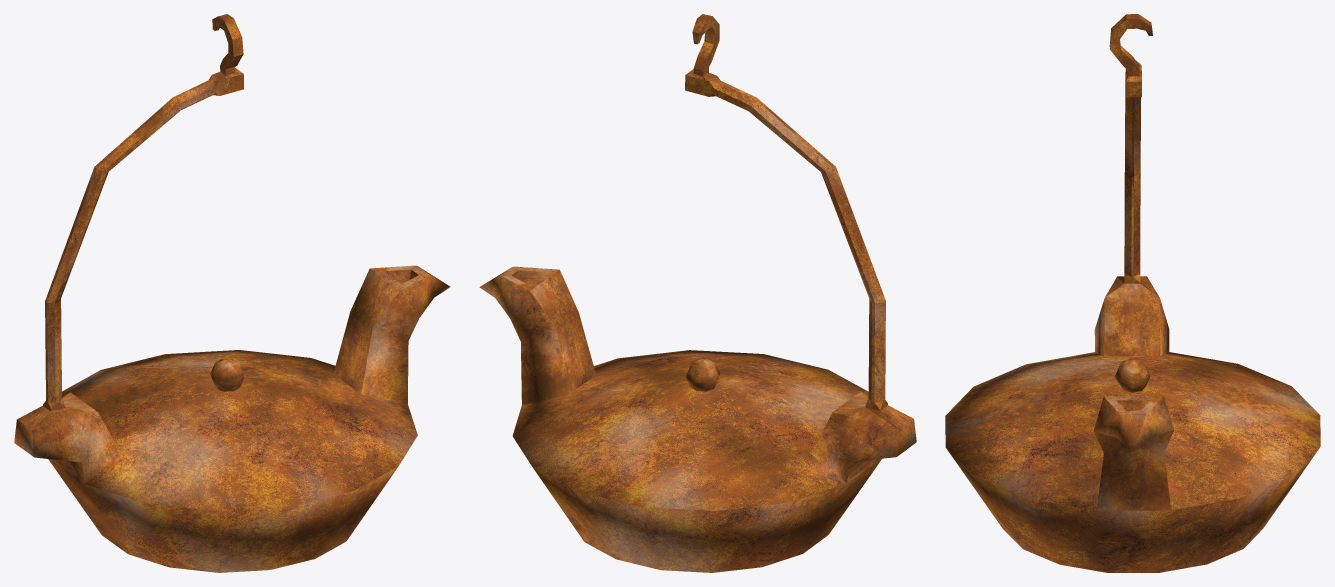
File: lamp.dae
3 views of the same model, side by side, from view 1: azimuth 30°, elevation 25°; view 2: azimuth 150°, elevation 25°; view 3: azimuth 270°, elevation 25° (orthographic).
Parts seen in each view (by area): view 1: Dn_Lamp_1; view 2: Dn_Lamp_1; view 3: Dn_Lamp_1.
Part boxes in pixels (left/top/right/bottom): Dn_Lamp_1: left=14, top=14, right=450, bottom=572; Dn_Lamp_1: left=479, top=14, right=916, bottom=572; Dn_Lamp_1: left=945, top=14, right=1320, bottom=572.
Size of the model in its own units: 0.4663 by 0.3546 by 0.5219.
1 material, 1 textured.
